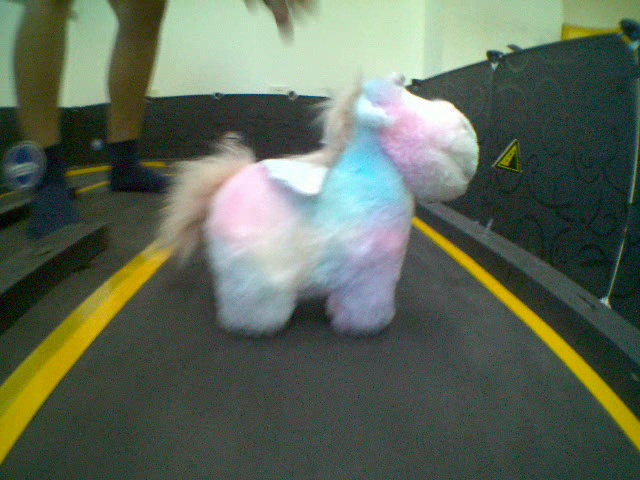unicorn: (158, 68, 481, 339)
